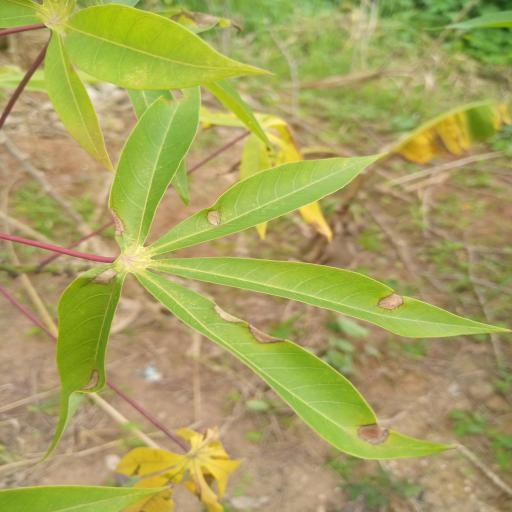Cassava_Brown_Leaf_Spot: (50, 69, 512, 467)
